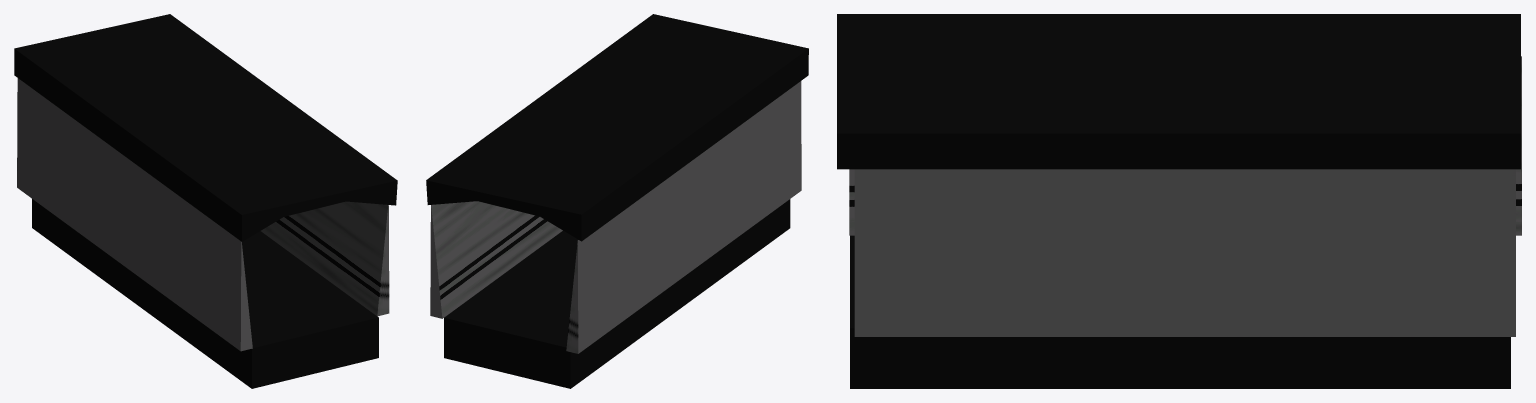
The model's file is tunel.fbx.
3 views of the same model, side by side, from view 1: azimuth 30°, elevation 25°; view 2: azimuth 150°, elevation 25°; view 3: azimuth 270°, elevation 25° (orthographic). The views are drawn at different scales.
Visible parts, largest first — view 1: node_id70, node_id52, node_id69, node_id5; view 2: node_id70, node_id52, node_id69, node_id5; view 3: node_id5, node_id70, node_id69, node_id52.
Boxes of the visible parts, x1,y1,x2,y2 form: node_id70: (14,14,397,241); node_id52: (17,78,252,351); node_id69: (32,199,378,388); node_id5: (261,201,389,316); node_id70: (426,14,808,241); node_id52: (566,81,801,353); node_id69: (444,199,790,388); node_id5: (430,201,562,318); node_id5: (854,169,1515,336); node_id70: (837,14,1520,169); node_id69: (850,235,1510,388); node_id52: (849,56,1521,235).
Size of the model in its own units: 0.7343 by 0.8127 by 1.86.
Materials: 4 (2 with a texture image).
